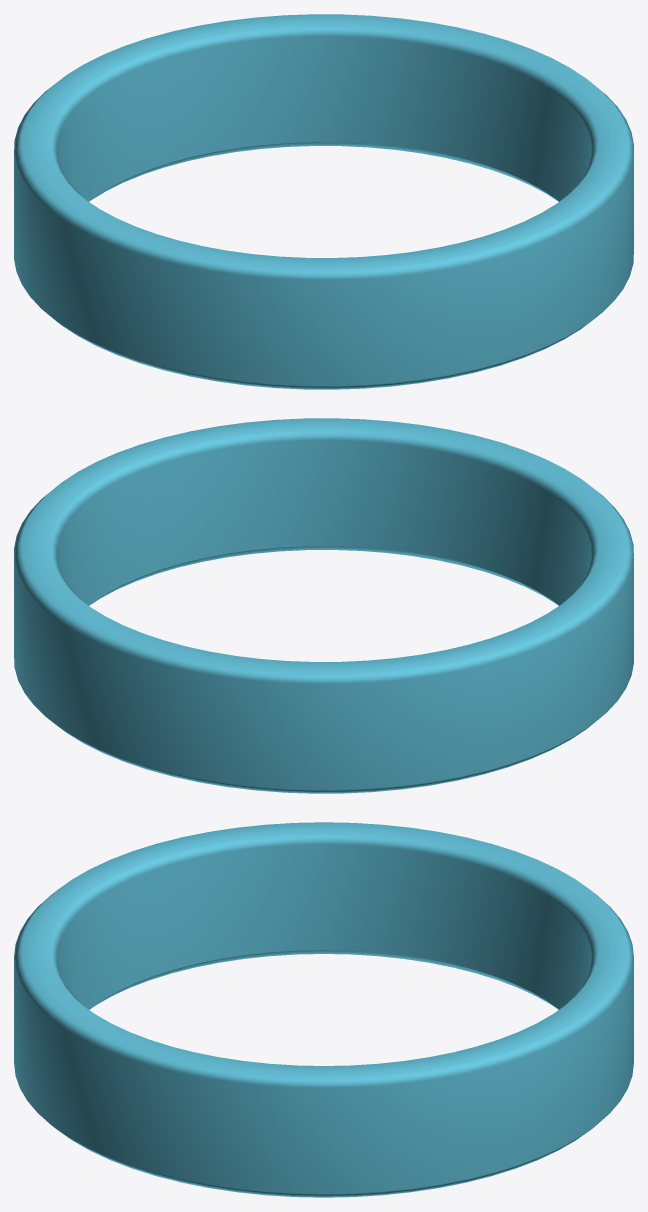
The picture shows the model from 3 angles, top to bottom: view 1: azimuth 30°, elevation 25°; view 2: azimuth 150°, elevation 25°; view 3: azimuth 270°, elevation 25°; orthographic projection.
Visible parts, largest first — view 1: seal_body; view 2: seal_body; view 3: seal_body.
Boxes of the visible parts, box(x1,y1,x2,y2) form: seal_body: box(14, 14, 633, 389); seal_body: box(14, 418, 633, 793); seal_body: box(14, 822, 633, 1197).
Bounding box in the file's own units: 0.0444 × 0.0095 × 0.0444.
